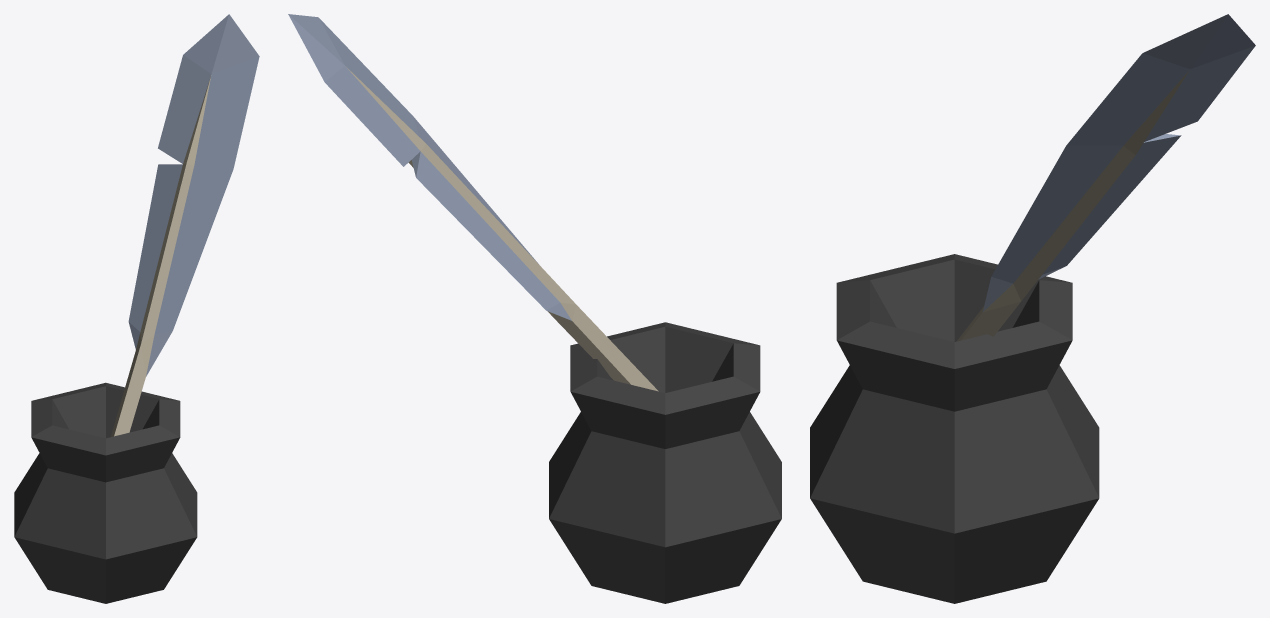
File: Quill.gltf
The picture shows the model from 3 angles, left to right: view 1: azimuth 30°, elevation 25°; view 2: azimuth 150°, elevation 25°; view 3: azimuth 270°, elevation 25°; orthographic projection. The views are drawn at different scales.
Visible parts, largest first — view 1: Quill2; view 2: Quill2; view 3: Quill2.
Boxes of the visible parts, x1,y1,x2,y2 form: Quill2: [14, 14, 259, 603]; Quill2: [288, 14, 781, 603]; Quill2: [810, 14, 1255, 603].
Size of the model in its own units: 0.0782 by 0.1097 by 0.0627.
Materials: 1 (1 with a texture image).
